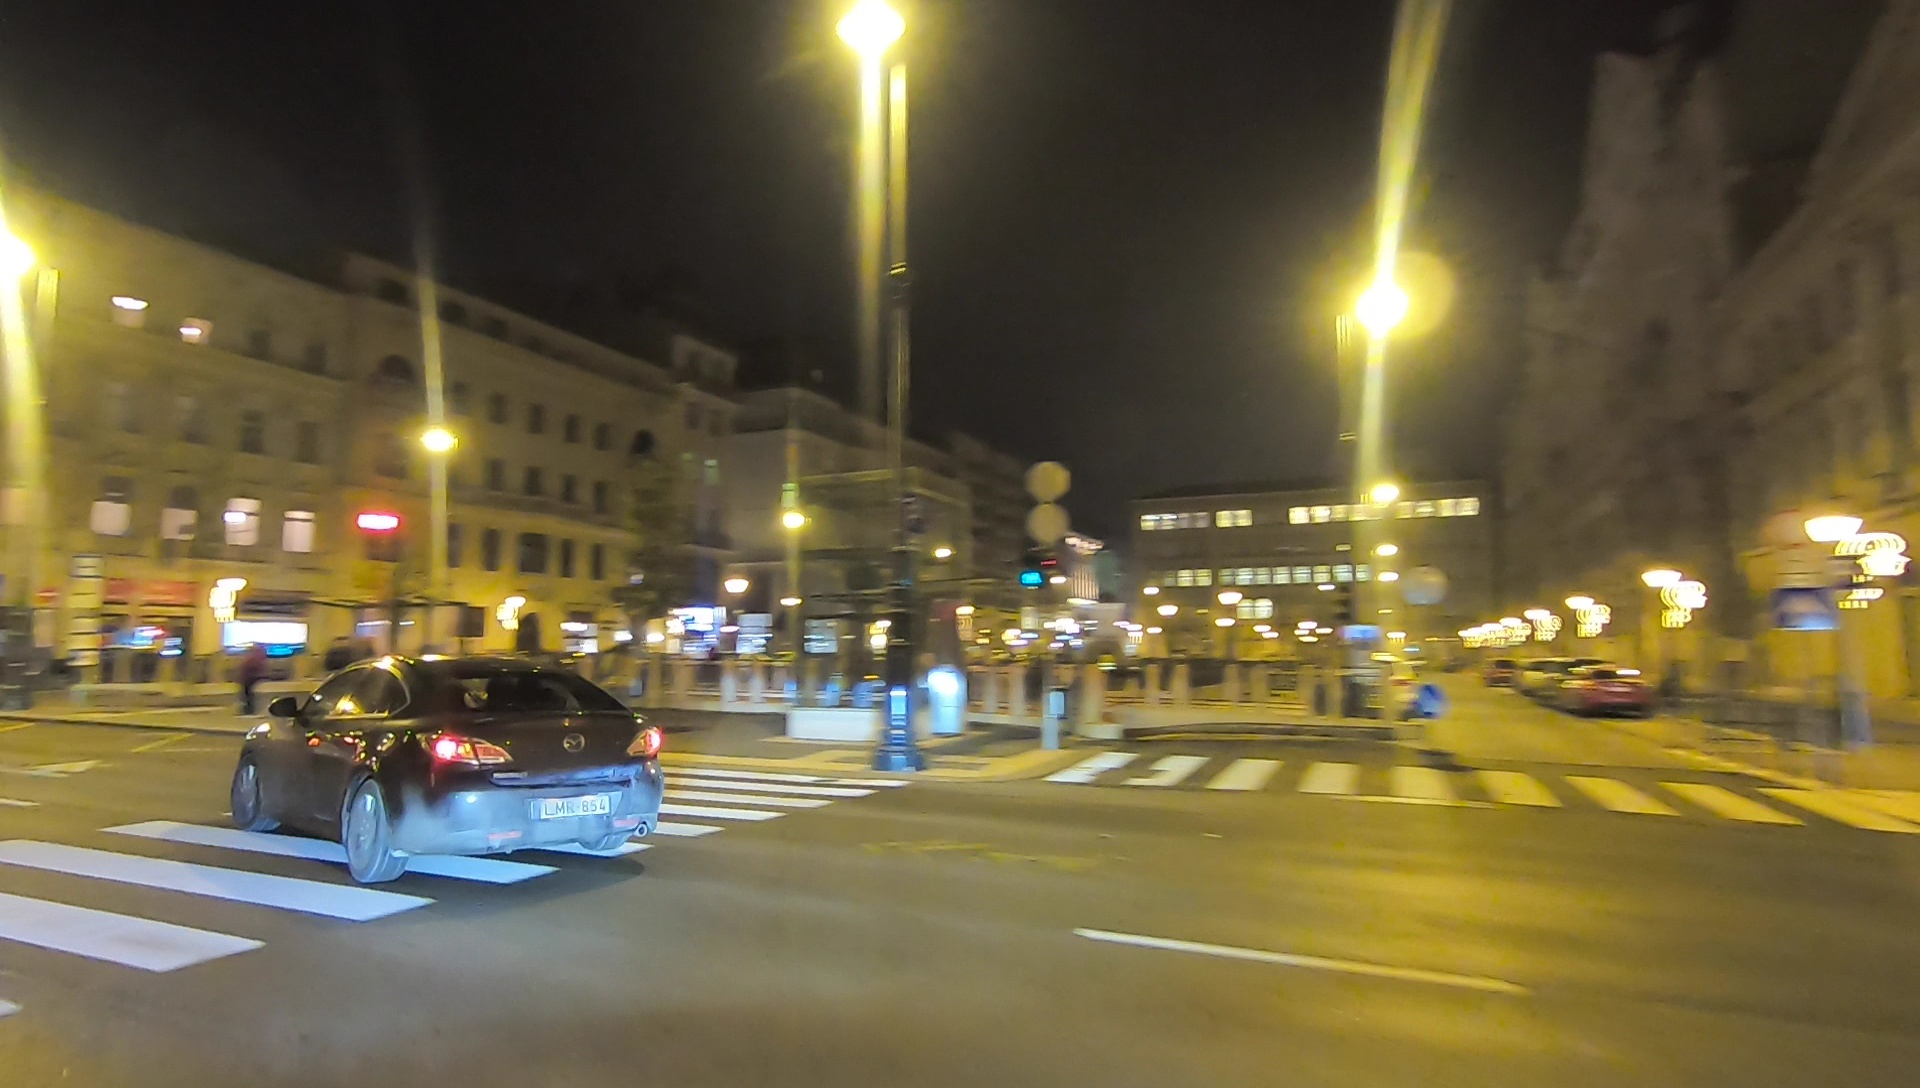person: (226, 639, 267, 723)
